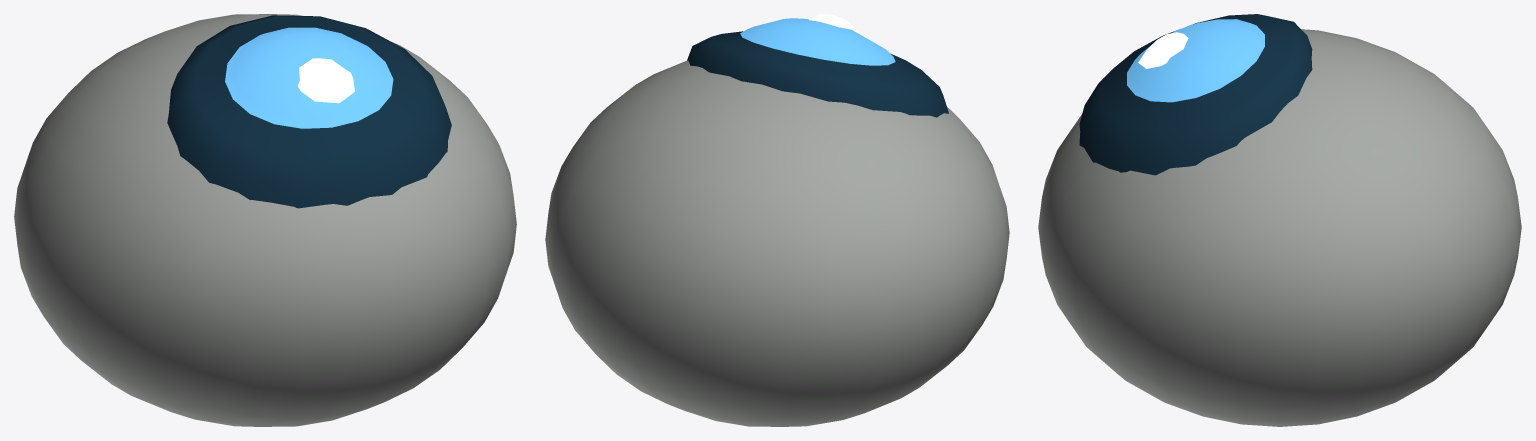
Rendered from newshl-117.glb.
3 views of the same model, side by side, from view 1: azimuth 30°, elevation 25°; view 2: azimuth 150°, elevation 25°; view 3: azimuth 270°, elevation 25° (orthographic). The views are drawn at different scales.
Visible parts, largest first — view 1: newshl-117; view 2: newshl-117; view 3: newshl-117.
Boxes of the visible parts, bbox=[...] form: newshl-117: bbox=[14, 14, 516, 426]; newshl-117: bbox=[545, 14, 1009, 426]; newshl-117: bbox=[1038, 14, 1521, 426].
Bounding box in the file's own units: 0.7667 × 0.6432 × 0.7667.
